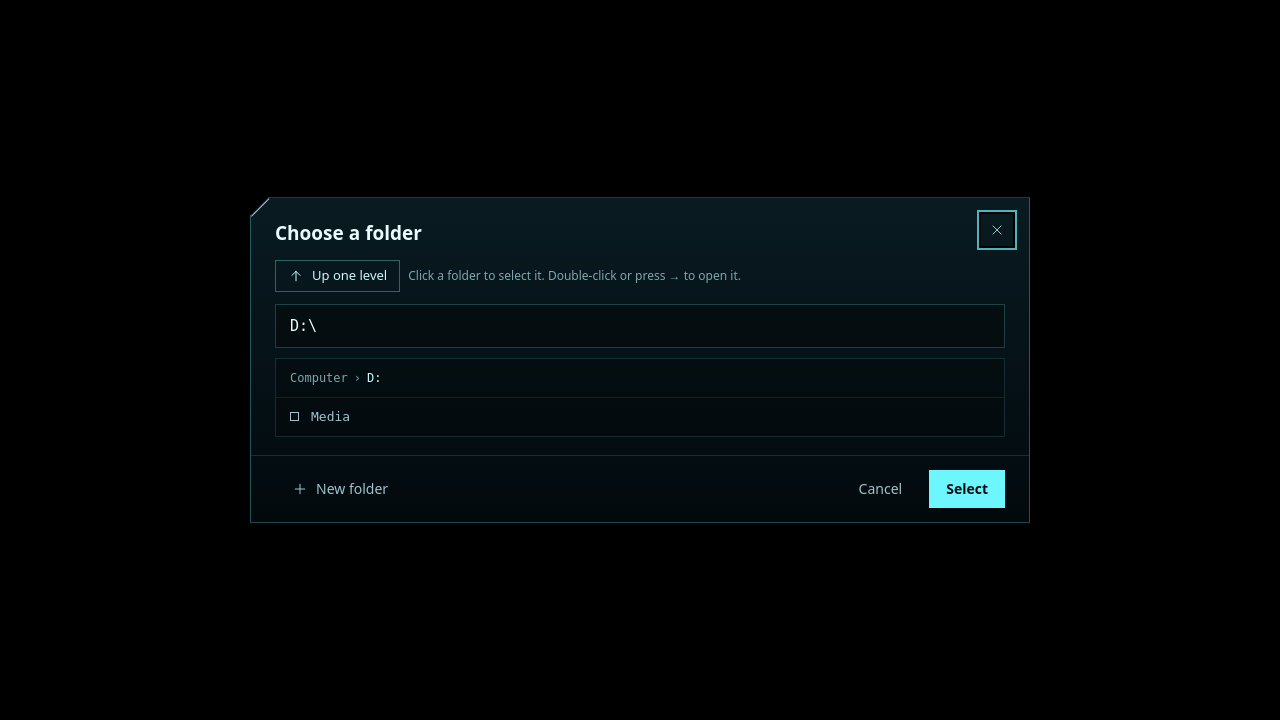
Test: PathPickerDialog › creates a folder and opens it
expect the option "Media" is shown: met, box x1=276 y1=398 x2=1004 y2=436
Click the button "New folder". click: (340, 489)
box: x1=275 y1=470 x2=405 y2=508
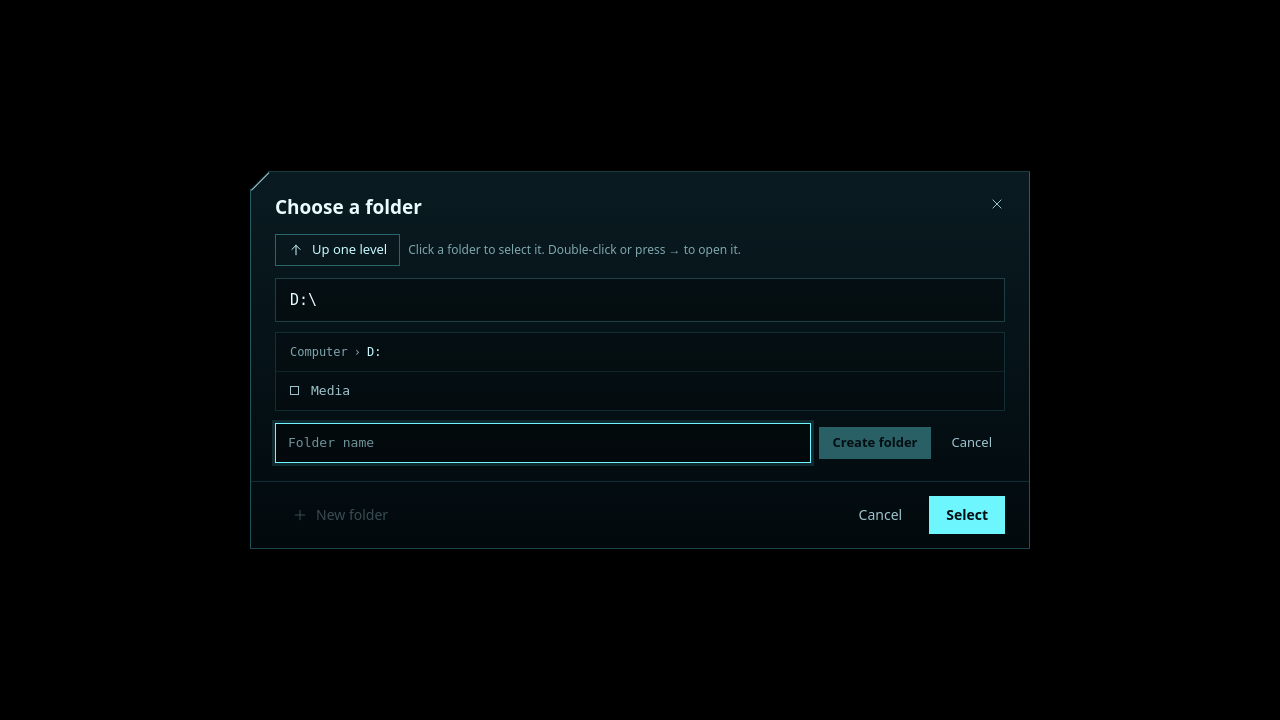
Type "New" into the field named "New folder name". click: (543, 443)
box: x1=275 y1=423 x2=812 y2=463
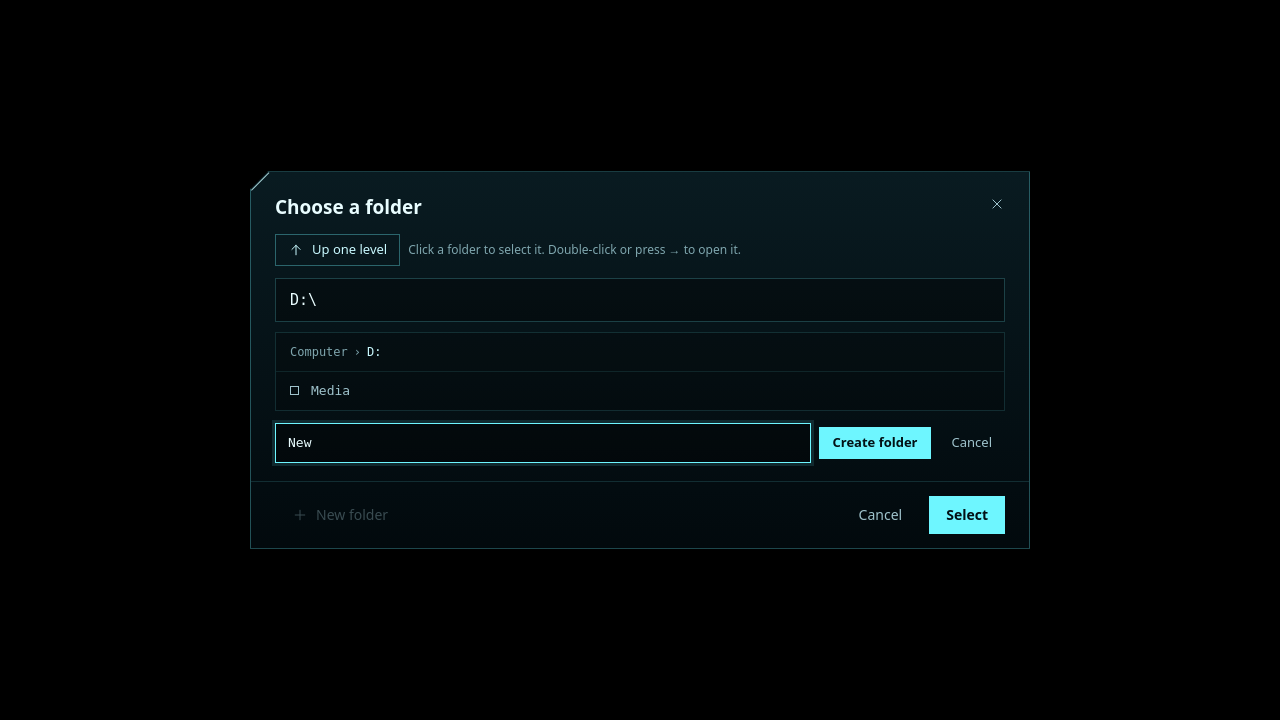
Click the button "Create folder". click: (875, 443)
box: x1=820 y1=427 x2=930 y2=459
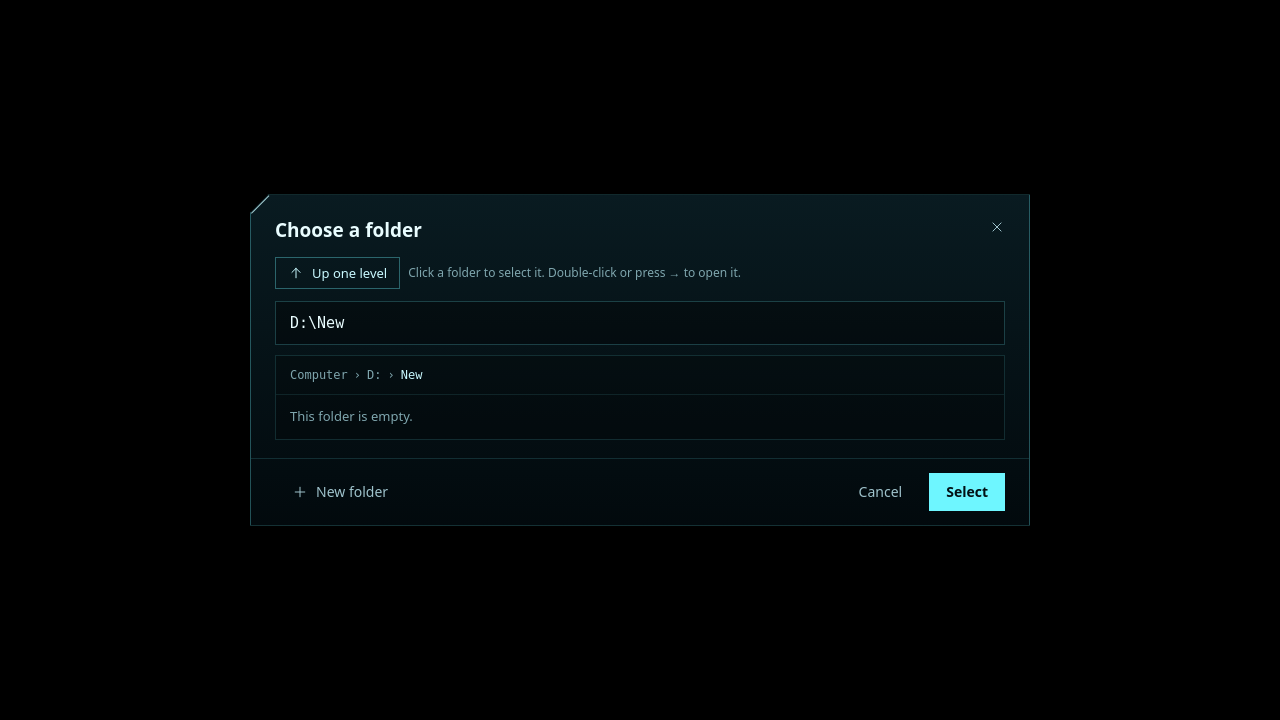
expect the field named "Folder path" holds "D:\\New": met, box x1=275 y1=301 x2=1005 y2=345
